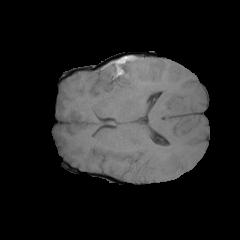glioma: (93, 56, 156, 94)
